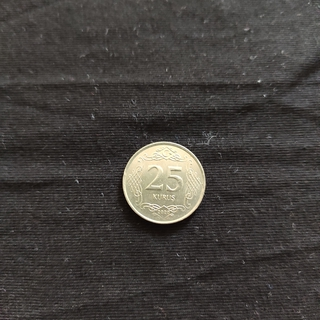25KURUS: (120, 139, 207, 225)
